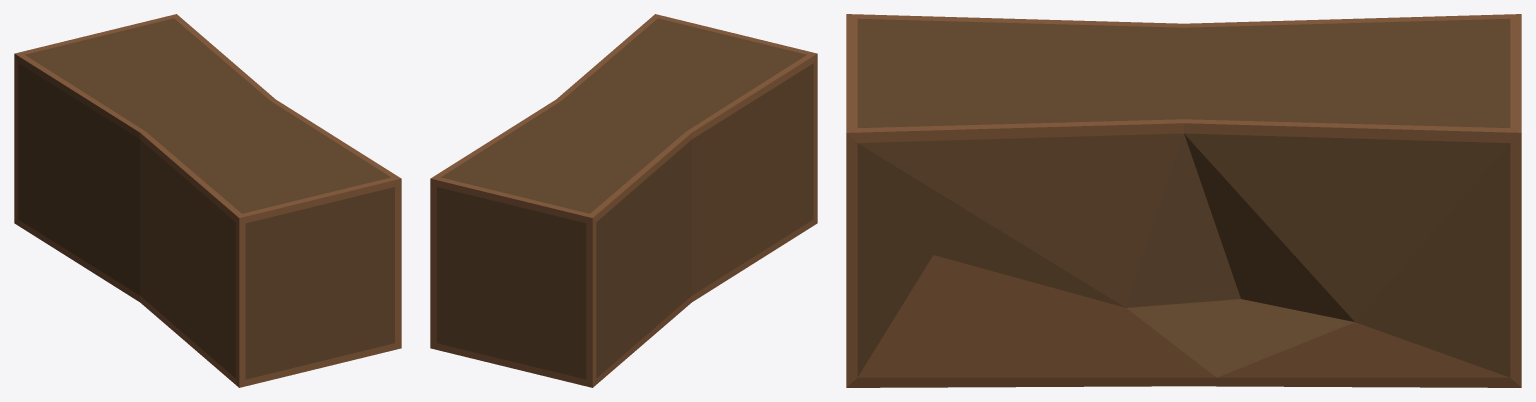
Rendered from apocalypse-cargo-apocalypse-b.glb.
3 views of the same model, side by side, from view 1: azimuth 30°, elevation 25°; view 2: azimuth 150°, elevation 25°; view 3: azimuth 270°, elevation 25° (orthographic). The views are drawn at different scales.
Visible parts, largest first — view 1: cargo-apocalypse-b; view 2: cargo-apocalypse-b; view 3: cargo-apocalypse-b.
Boxes of the visible parts, x1,y1,x2,y2 form: cargo-apocalypse-b: [14, 14, 401, 387]; cargo-apocalypse-b: [430, 14, 817, 387]; cargo-apocalypse-b: [846, 14, 1521, 387].
Bounding box in the file's own units: 2.5 × 2.5 × 6.
